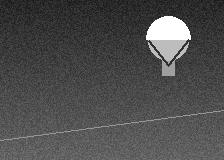helmet: (146, 16, 190, 65)
